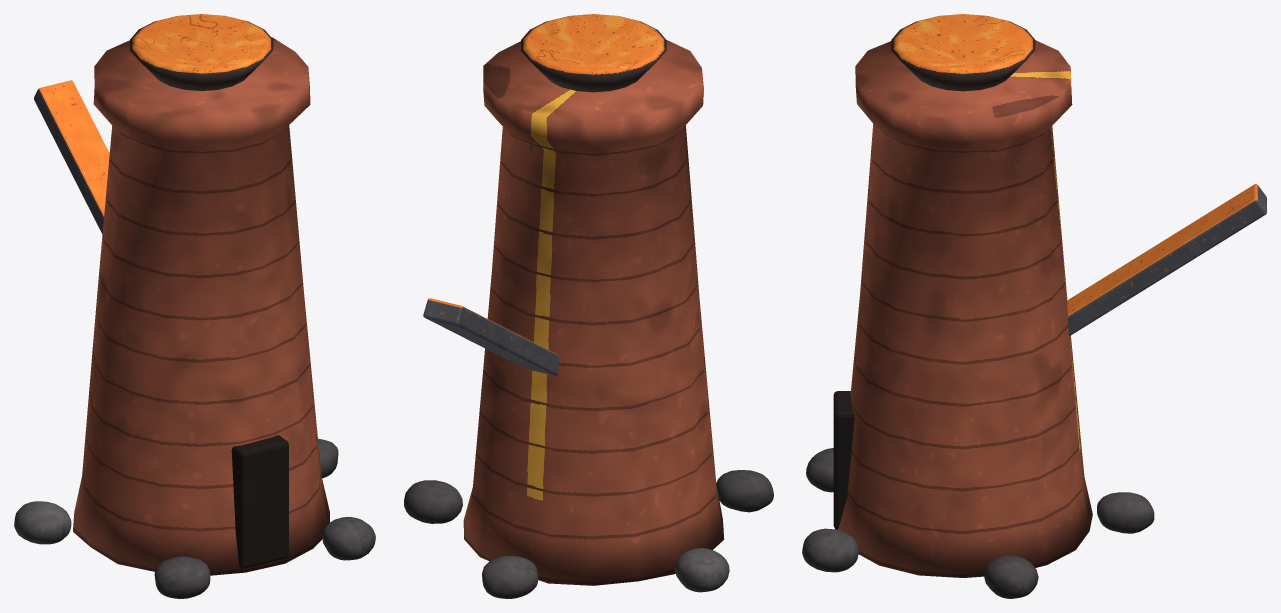
The model's file is volcano_tower.glb.
3 views of the same model, side by side, from view 1: azimuth 30°, elevation 25°; view 2: azimuth 150°, elevation 25°; view 3: azimuth 270°, elevation 25° (orthographic).
Parts seen in each view (by area): view 1: VolcanoTower, bw; view 2: VolcanoTower, bw; view 3: VolcanoTower, bw.
Part boxes in pixels (left/top/right/bottom): VolcanoTower: left=14, top=37, right=375, bottom=598; bw: left=130, top=14, right=273, bottom=90; VolcanoTower: left=404, top=40, right=773, bottom=598; bw: left=521, top=14, right=666, bottom=92; VolcanoTower: left=802, top=40, right=1266, bottom=598; bw: left=891, top=14, right=1035, bottom=91.
Bounding box in the file's own units: 4.5 × 6.64 × 5.73.
Materials: 1 (1 with a texture image).
